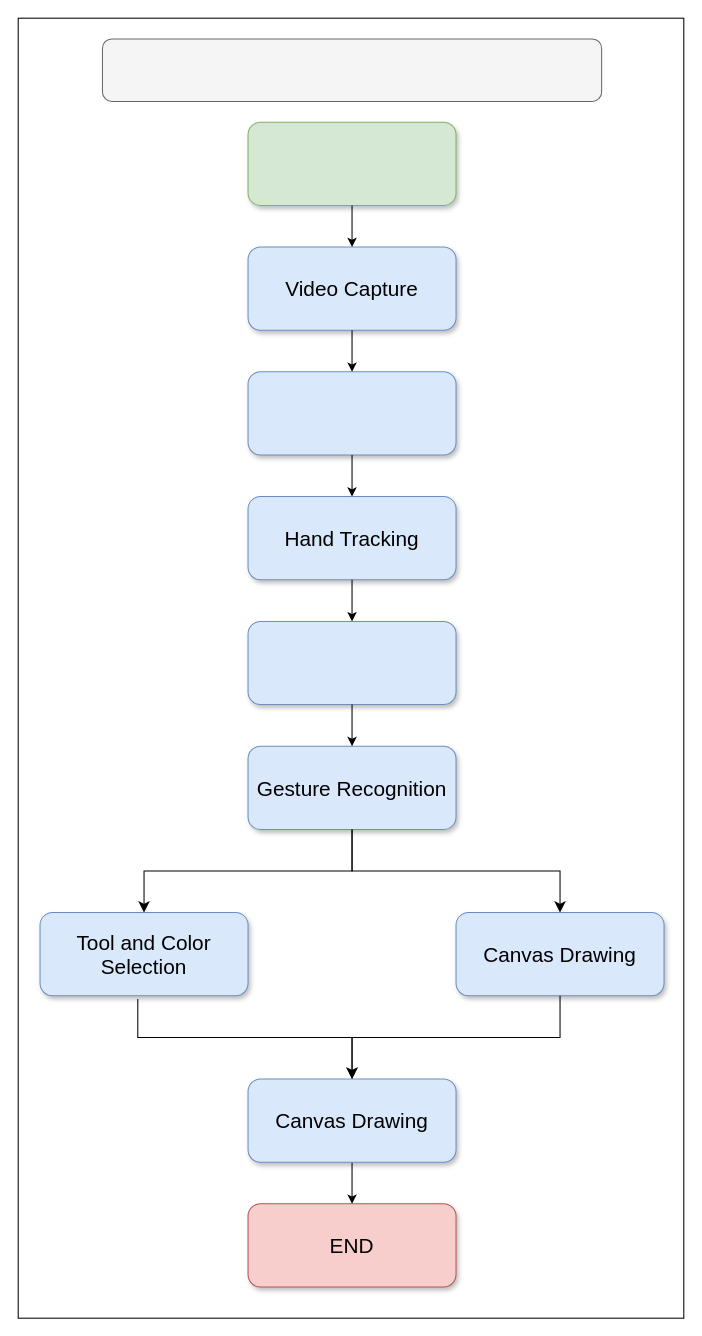
The diagram is 702 pixels wide and 1336 high, and some of its shapes have lost their labels. Each missing label, with the centre of its shape:
Finger Position Detection: [352,664]
Image Processing: [352,414]
Start: [352,165]
Workflow Diagram of Virtual Paint.: [351,69]
